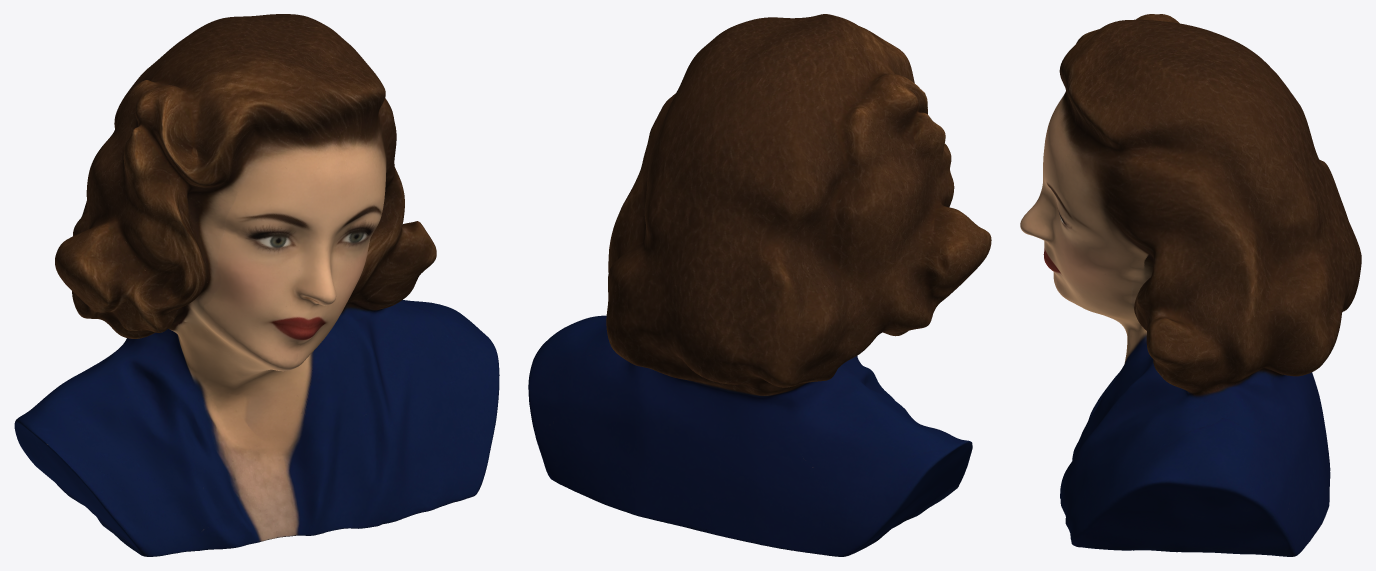
The model's file is Meshy_AI_Vintage_Radiance_1023103920_texture.glb.
The picture shows the model from 3 angles, left to right: view 1: azimuth 30°, elevation 25°; view 2: azimuth 150°, elevation 25°; view 3: azimuth 270°, elevation 25°; orthographic projection. The views are drawn at different scales.
Bounding box in the file's own units: 1.85 × 1.9 × 1.34.
1 material, 1 textured.
